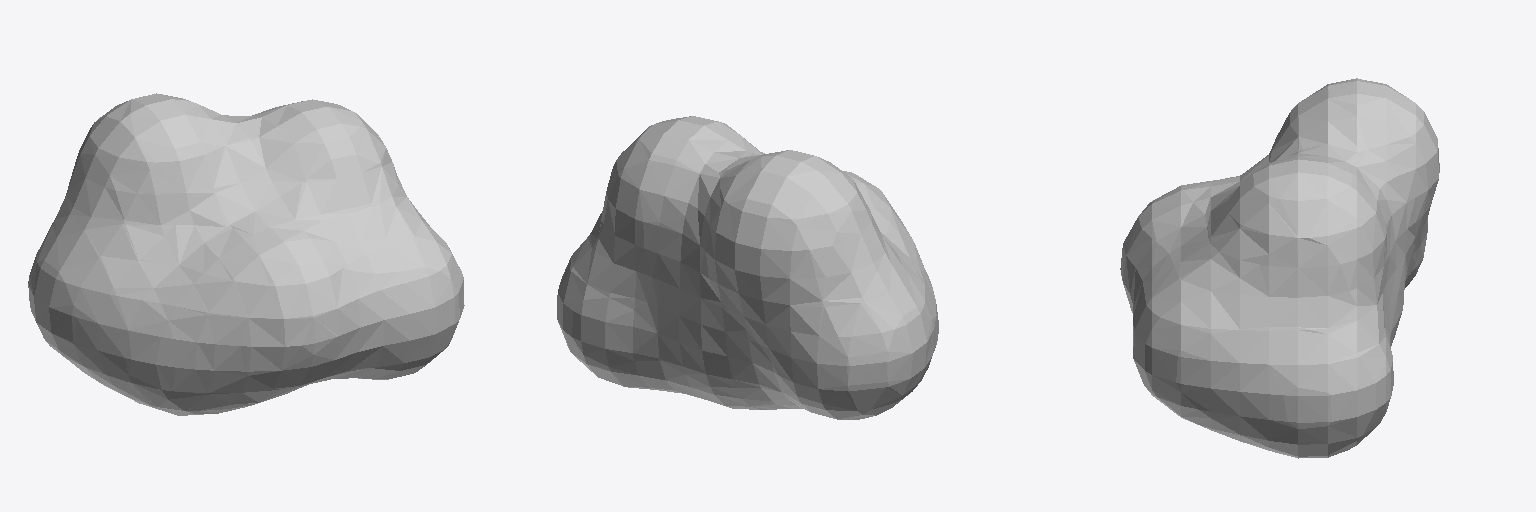
Rendered from chmurka.obj.
3 views of the same model, side by side, from view 1: azimuth 30°, elevation 25°; view 2: azimuth 150°, elevation 25°; view 3: azimuth 270°, elevation 25° (orthographic).
Parts seen in each view (by area): view 1: Mball; view 2: Mball; view 3: Mball.
Boxes of the visible parts, x1,y1,x2,y2 form: Mball: [28, 93, 464, 415]; Mball: [557, 116, 938, 419]; Mball: [1120, 78, 1439, 458].
Size of the model in its own units: 5.79 by 4.22 by 4.36.